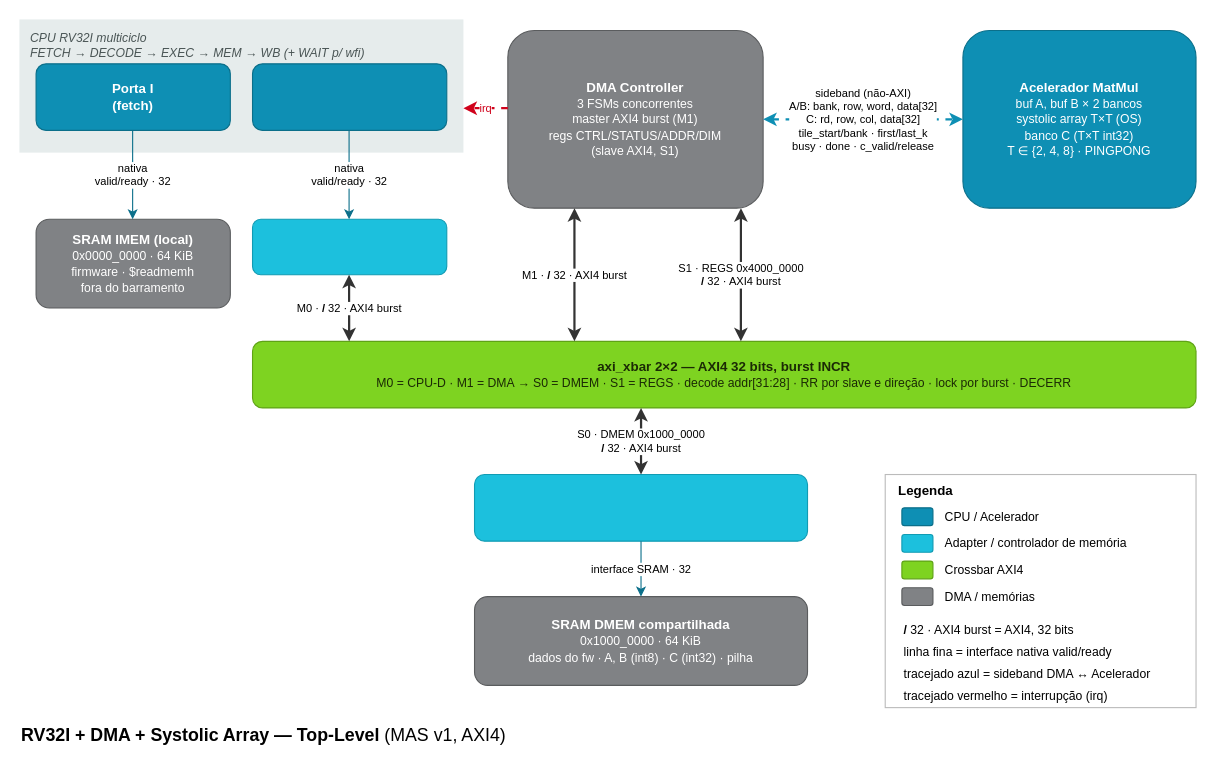
Some shapes in this 1215 by 770 pixel diagram are drawn without their labels. The centre of each missing label's shape, as x and y in pixels:
"axi_mem_ctrl slave AXI4 (burst) → SRAM · WSTRB" belongs at pixel 640 507.
"cpu_axi_adapter" belongs at pixel 349 246.
"Porta D (load/store)" belongs at pixel 349 96.
